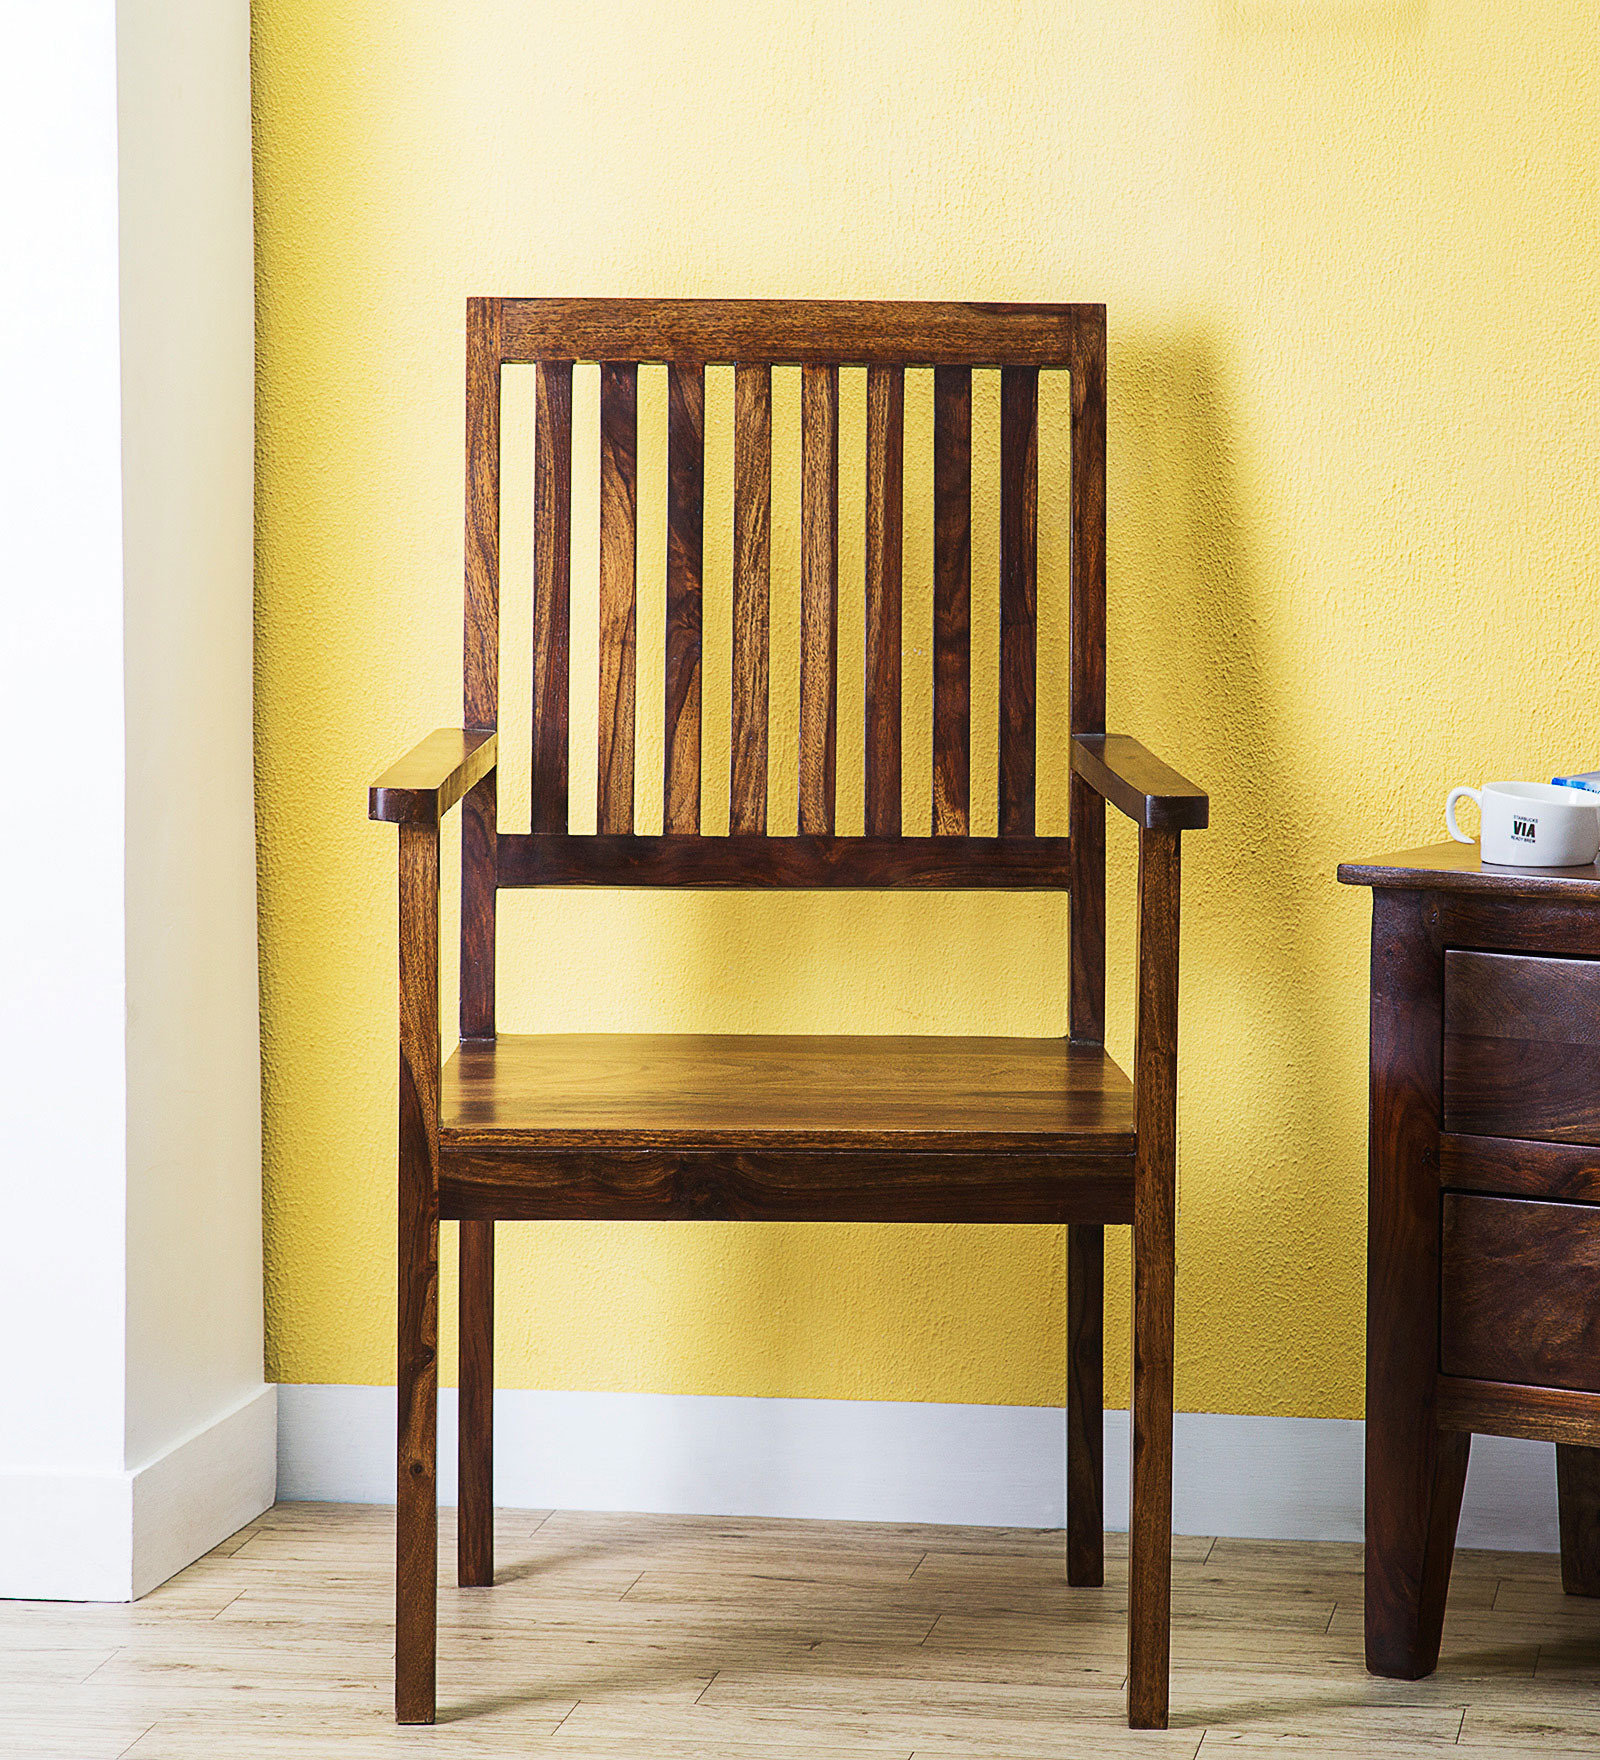Amarillo Arm Chair in Provincial Teak Finish by Woodsworth: (368, 277, 1234, 1745)
